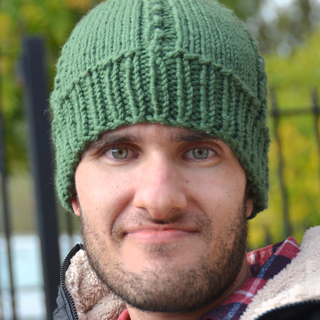eye: (173, 140, 230, 167), (95, 142, 149, 165)
